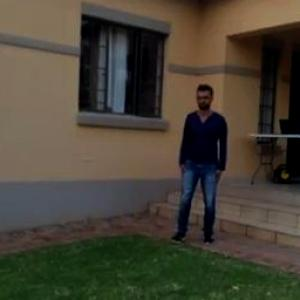follow: (176, 75, 227, 255)
